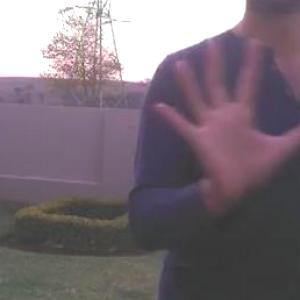follow_hand: (149, 34, 299, 196)
